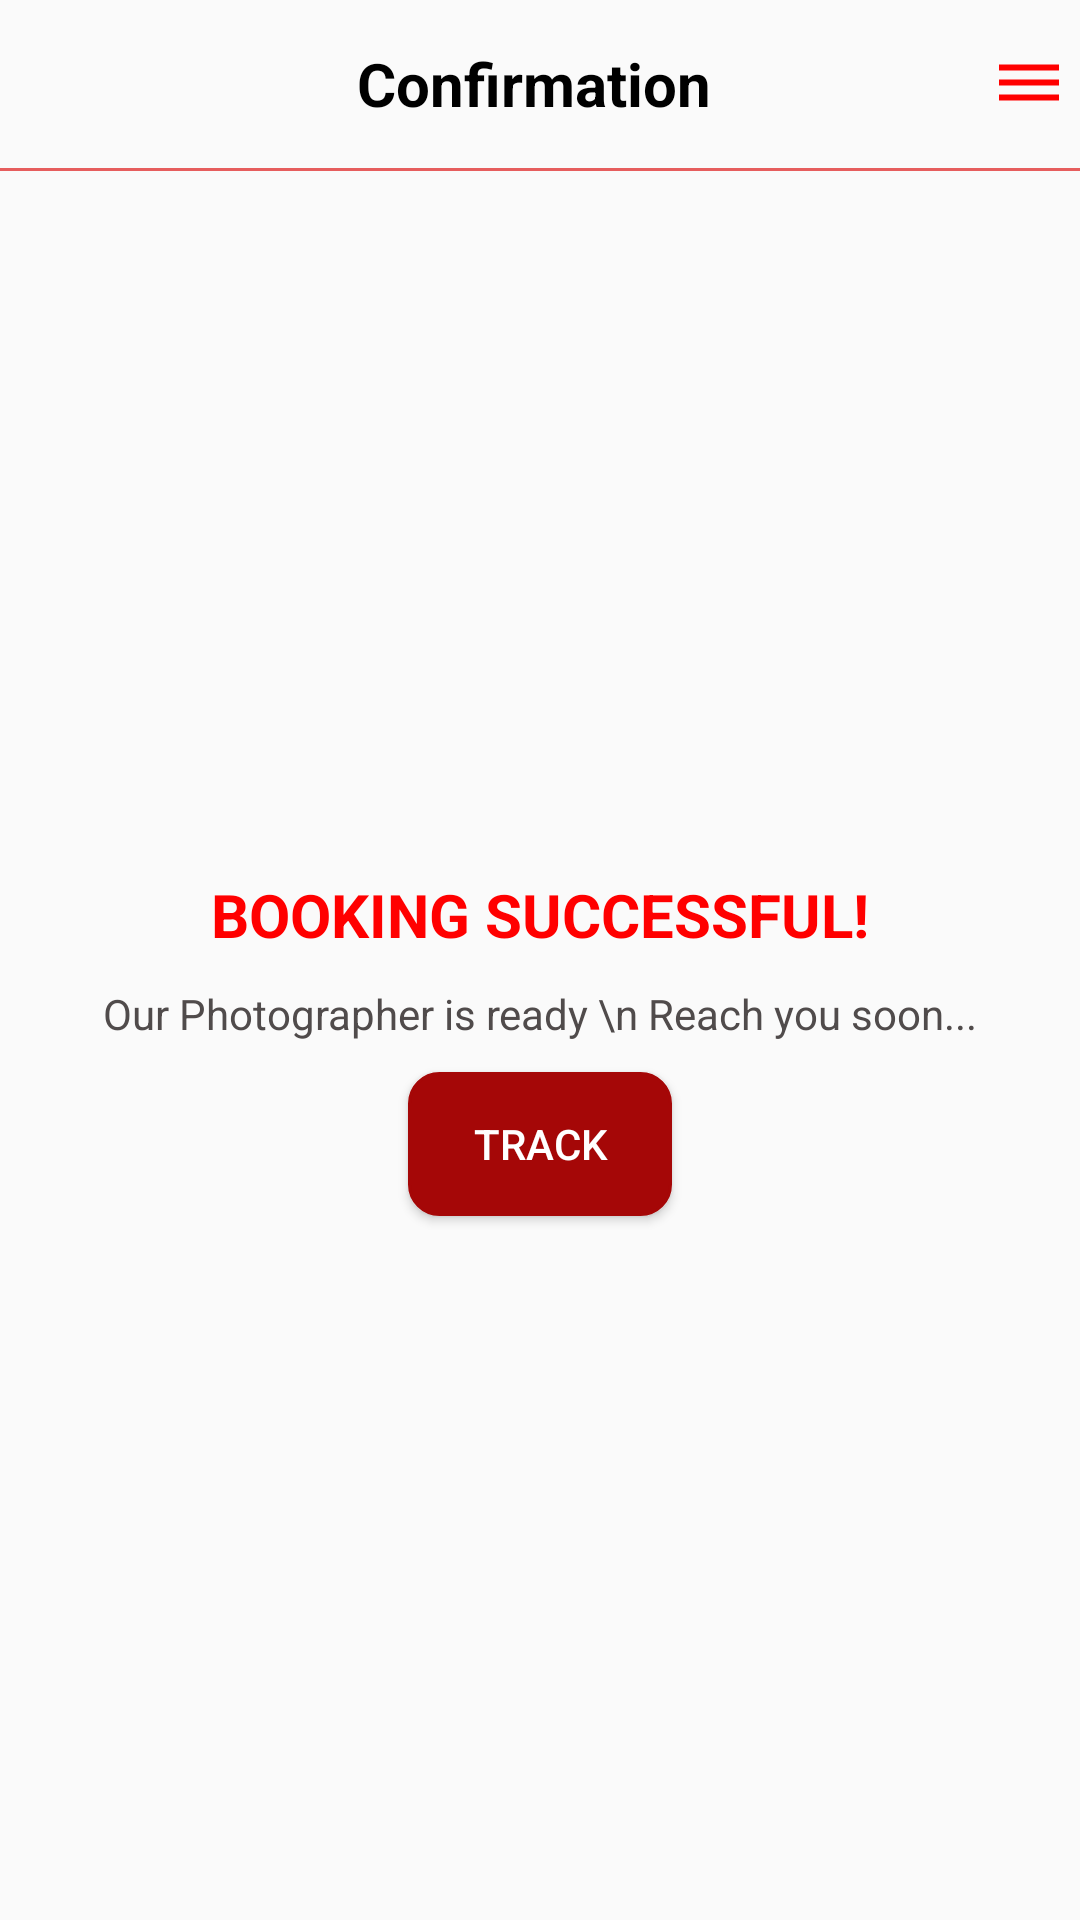

Locate icon controls on the screen. Image size 1080w x 1920h, boxes as rect(x1, y1, x2, y2).
drawer open: rect(999, 64, 1059, 101)
